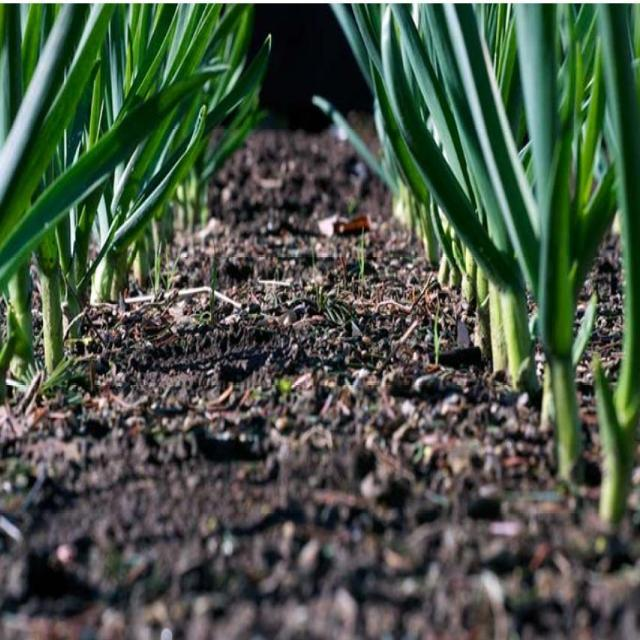row: (1, 129, 615, 640)
